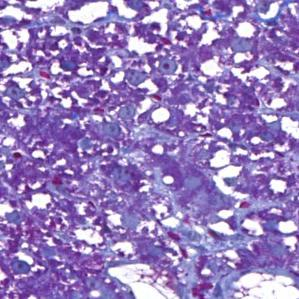ballooning: (99, 258, 176, 296), (228, 264, 294, 299)
